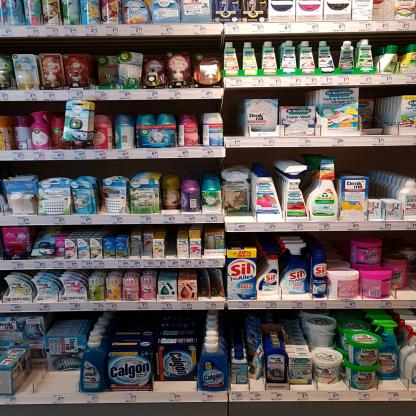Void: (369, 151, 394, 197), (40, 371, 80, 391), (226, 93, 245, 134), (335, 150, 366, 175), (152, 379, 196, 392), (386, 231, 415, 249), (327, 236, 349, 259), (278, 90, 312, 104), (167, 231, 176, 258)
